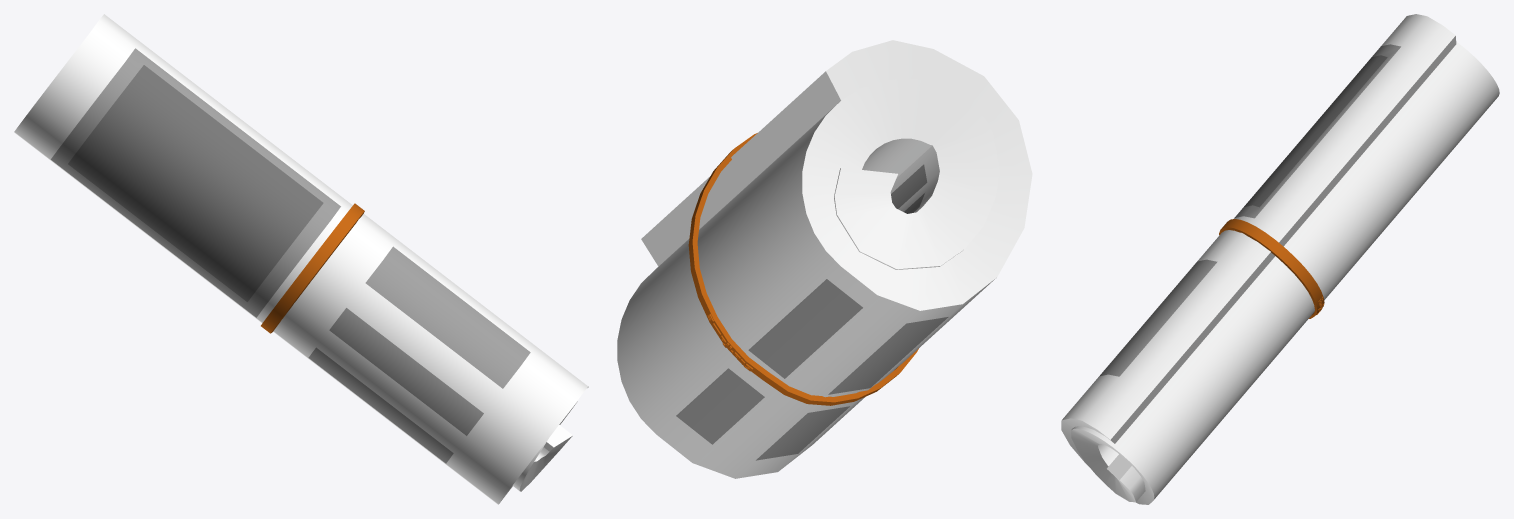
File: rolled_up_newspaper.fbx
The picture shows the model from 3 angles, left to right: view 1: azimuth 30°, elevation 25°; view 2: azimuth 150°, elevation 25°; view 3: azimuth 270°, elevation 25°; orthographic projection. The views are drawn at different scales.
Visible parts, largest first — view 1: Cylinder.502; view 2: Cylinder.502; view 3: Cylinder.502.
Boxes of the visible parts, x1=… form: Cylinder.502: x1=14, y1=14, x2=588, y2=504; Cylinder.502: x1=617, y1=40, x2=1032, y2=478; Cylinder.502: x1=1061, y1=14, x2=1499, y2=504.
Bounding box in the file's own units: 219 × 226 × 237.
1 material, 1 textured.
